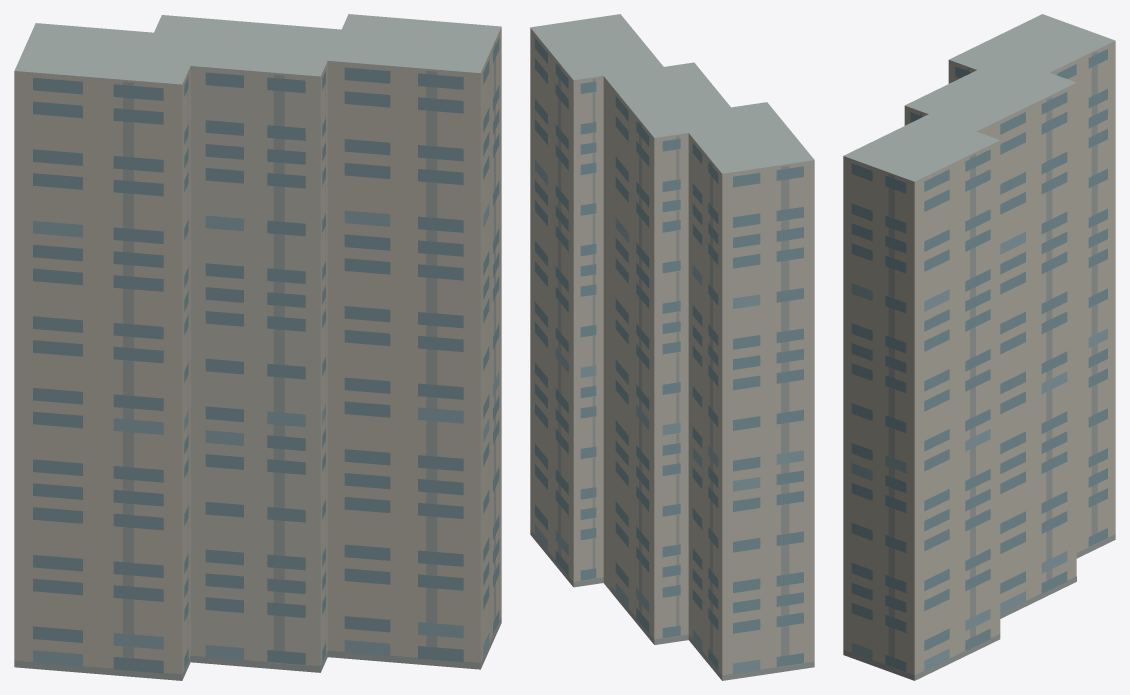
Rendered from residential-0c33c6b6-f9d4-49d4-9cb4-6cb5c50d4094.glb.
3 renders of one model, left to right at view 1: azimuth 30°, elevation 25°; view 2: azimuth 150°, elevation 25°; view 3: azimuth 270°, elevation 25°, orthographic. The views are drawn at different scales.
Visible parts, largest first — view 1: residential-0c33c6b6-f9d4-49d4-9cb4-6cb5c50d4094.tmp; view 2: residential-0c33c6b6-f9d4-49d4-9cb4-6cb5c50d4094.tmp; view 3: residential-0c33c6b6-f9d4-49d4-9cb4-6cb5c50d4094.tmp.
Part boxes in pixels (bbox=[...]): residential-0c33c6b6-f9d4-49d4-9cb4-6cb5c50d4094.tmp: bbox=[14, 14, 501, 680]; residential-0c33c6b6-f9d4-49d4-9cb4-6cb5c50d4094.tmp: bbox=[530, 14, 814, 680]; residential-0c33c6b6-f9d4-49d4-9cb4-6cb5c50d4094.tmp: bbox=[843, 14, 1115, 680].
Bounding box in the file's own units: 51.21 × 71 × 35.12.
